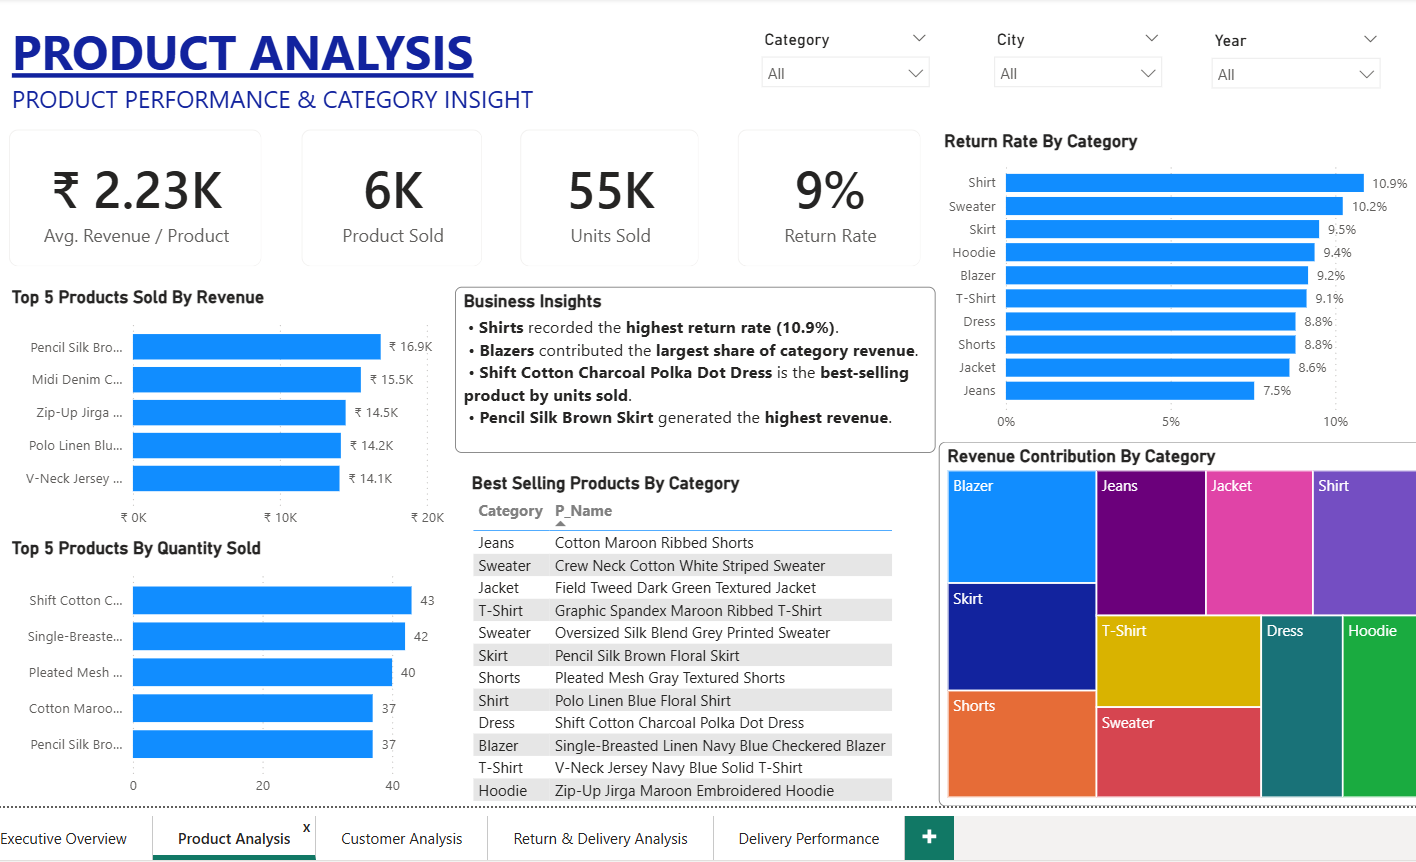

What the dashboard file says about the page in this screenshot:
{"tool":"powerbi","page":{"name":"Product Analysis","canvas":[1280,720],"ordinal":1},"visuals":[{"type":"cardVisual","fields":{"Data":["orders.Total Quantity"]},"box":[455.4,100.6,193.8,156.2],"z":0},{"type":"cardVisual","fields":{"Data":["orders.Distinct Product Sold"]},"box":[260,100.6,195.3,156.2],"z":1000},{"type":"cardVisual","fields":{"Data":["orders.Return rate"]},"box":[649.3,100.6,197,156.1],"z":2000},{"type":"cardVisual","fields":{"Data":["orders.Average Revenue Per Product"]},"box":[0,100.6,259.8,156.2],"z":3000},{"type":"barChart","title":"Top 5 Products Sold By Revenue","fields":{"Category":["product.P_Name"],"Y":["orders.Total Revenue"]},"box":[15,256.8,399.5,223.8],"z":4000},{"type":"clusteredBarChart","title":"Top 5 Products By Quantity Sold","fields":{"Category":["product.P_Name"],"Y":["Sum(orders.Qty)"]},"box":[15,480.6,399.5,238.8],"z":5000},{"type":"treemap","title":"Revenue Contribution By Category","fields":{"Group":["product.Category"],"Values":["orders.Total Revenue"]},"box":[845.1,395.3,434.9,324.6],"z":6000},{"type":"tableEx","title":"Best Selling Products By Category","fields":{"Values":["product.Category","product.P_Name"]},"box":[423.8,422.5,406.4,297.4],"z":7000},{"type":"clusteredBarChart","title":"Return Rate By Category","fields":{"Y":["orders.Return rate"],"Category":["product.Category"]},"box":[845.1,117.7,434.9,277.6],"z":8000},{"type":"textbox","box":[14.9,13.6,649.3,95.4],"z":9000},{"type":"slicer","fields":{"Values":["customer.City"]},"box":[883.5,23.5,170,75.6],"z":10000},{"type":"slicer","fields":{"Values":["product.Category"]},"box":[677.3,23.5,170,75.6],"z":11000},{"type":"slicer","fields":{"Values":["date.Year"]},"box":[1077.5,24,171,75.6],"z":12000},{"type":"textbox","title":"Business Insights","box":[413.8,257,428.3,148.4],"z":13000}]}

Visuals, with their boxes on the page's 1280x720 design canvas (x1, y1, x2, y2). These are canvas units, not pixel positions in the 1416x862 screenshot, which may show the page scaled, cropped or inside an application window:
cardVisual - orders.Total Quantity: BBox(455, 101, 649, 257)
cardVisual - orders.Distinct Product Sold: BBox(260, 101, 455, 257)
cardVisual - orders.Return rate: BBox(649, 101, 846, 257)
cardVisual - orders.Average Revenue Per Product: BBox(0, 101, 260, 257)
"Top 5 Products Sold By Revenue" barChart: BBox(15, 257, 414, 481)
"Top 5 Products By Quantity Sold" clusteredBarChart: BBox(15, 481, 414, 719)
"Revenue Contribution By Category" treemap: BBox(845, 395, 1280, 720)
"Best Selling Products By Category" tableEx: BBox(424, 422, 830, 720)
"Return Rate By Category" clusteredBarChart: BBox(845, 118, 1280, 395)
textbox: BBox(15, 14, 664, 109)
slicer - customer.City: BBox(884, 24, 1054, 99)
slicer - product.Category: BBox(677, 24, 847, 99)
slicer - date.Year: BBox(1078, 24, 1248, 100)
"Business Insights" textbox: BBox(414, 257, 842, 405)
